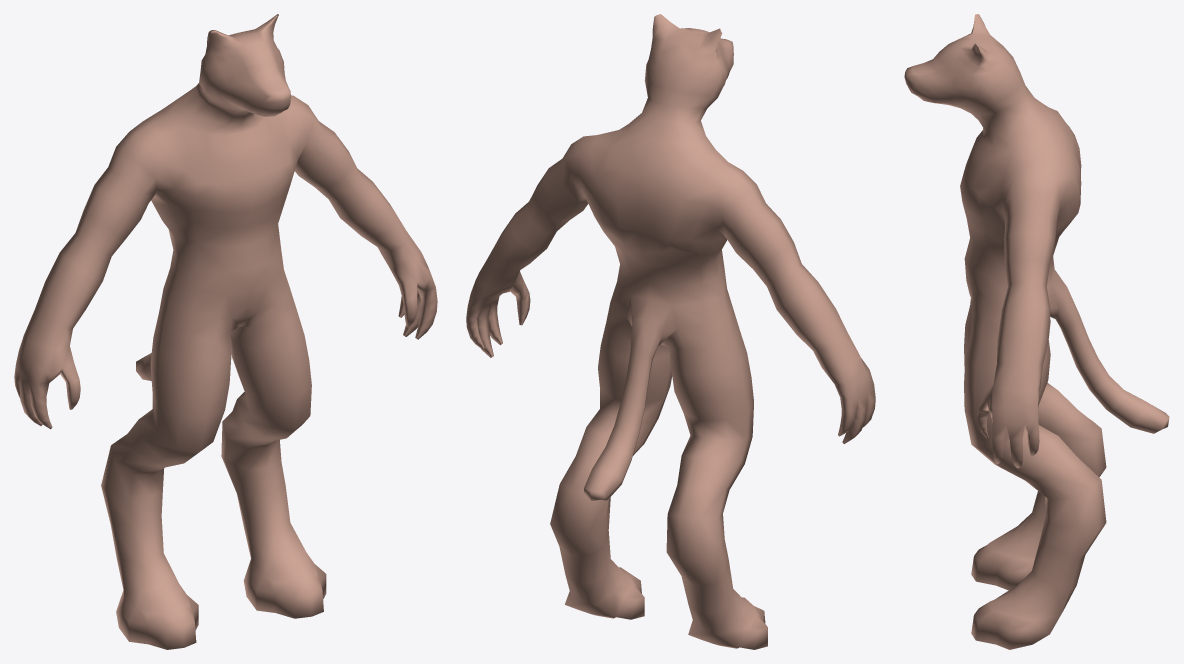
The model's file is furro.fbx.
The picture shows the model from 3 angles, left to right: view 1: azimuth 30°, elevation 25°; view 2: azimuth 150°, elevation 25°; view 3: azimuth 270°, elevation 25°; orthographic projection. The views are drawn at different scales.
Visible parts, largest first — view 1: MonsterWolfman:wolfman; view 2: MonsterWolfman:wolfman; view 3: MonsterWolfman:wolfman.
Part boxes in pixels (x1,y1,x2,y2): MonsterWolfman:wolfman: (14, 14, 437, 649); MonsterWolfman:wolfman: (466, 14, 875, 649); MonsterWolfman:wolfman: (904, 14, 1169, 649).
Bounding box in the file's own units: 148 × 214 × 89.53.
